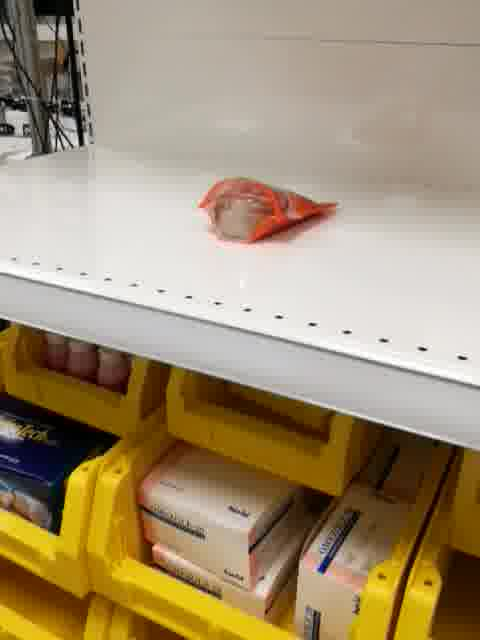whitechia: (194, 175, 338, 244)
